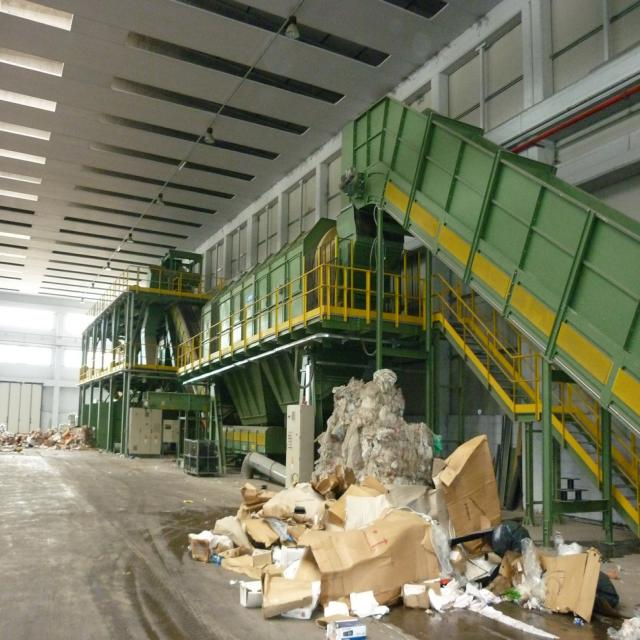Broyeur: (261, 338, 321, 422), (210, 353, 272, 428)
Convoyeur: (340, 93, 640, 443), (163, 308, 203, 376)
